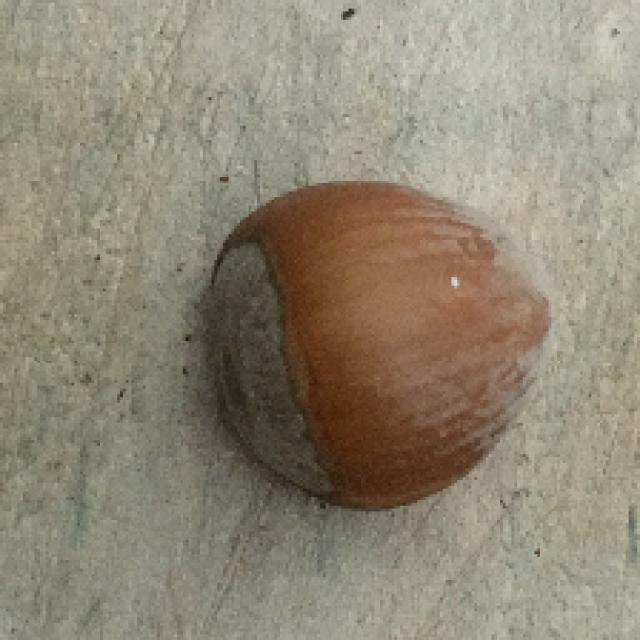qualityHazelnut: (189, 181, 554, 513)
